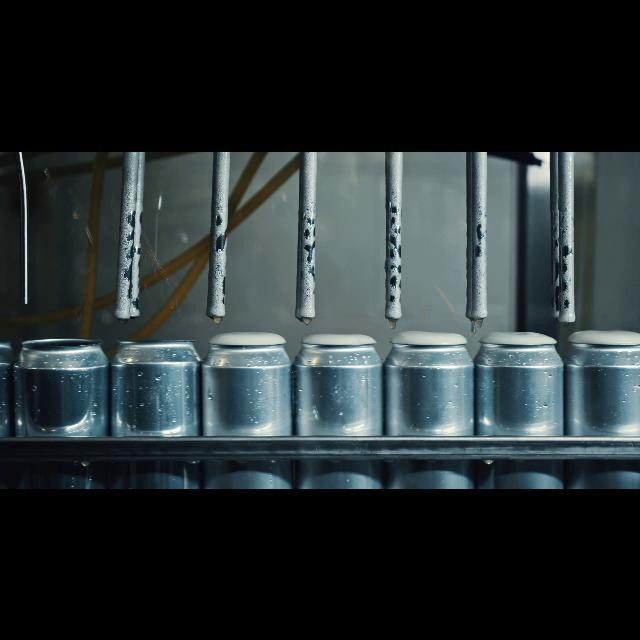empty: (19, 322, 107, 488), (115, 322, 202, 488)
full: (206, 308, 292, 488), (478, 307, 562, 488), (388, 318, 470, 488), (301, 318, 379, 488), (568, 314, 640, 488)
